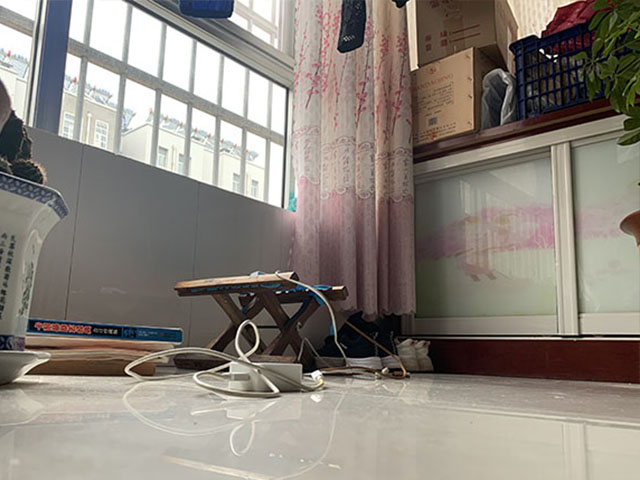book: (24, 316, 184, 358)
cabinet: (410, 99, 640, 382)
curtain: (292, 3, 418, 313)
stool: (172, 272, 344, 369)
wire: (124, 319, 354, 395)
